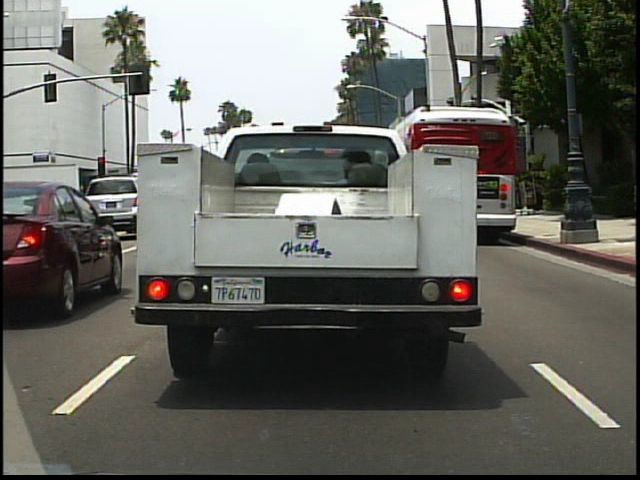person: (40, 193, 61, 237), (22, 197, 42, 232)
